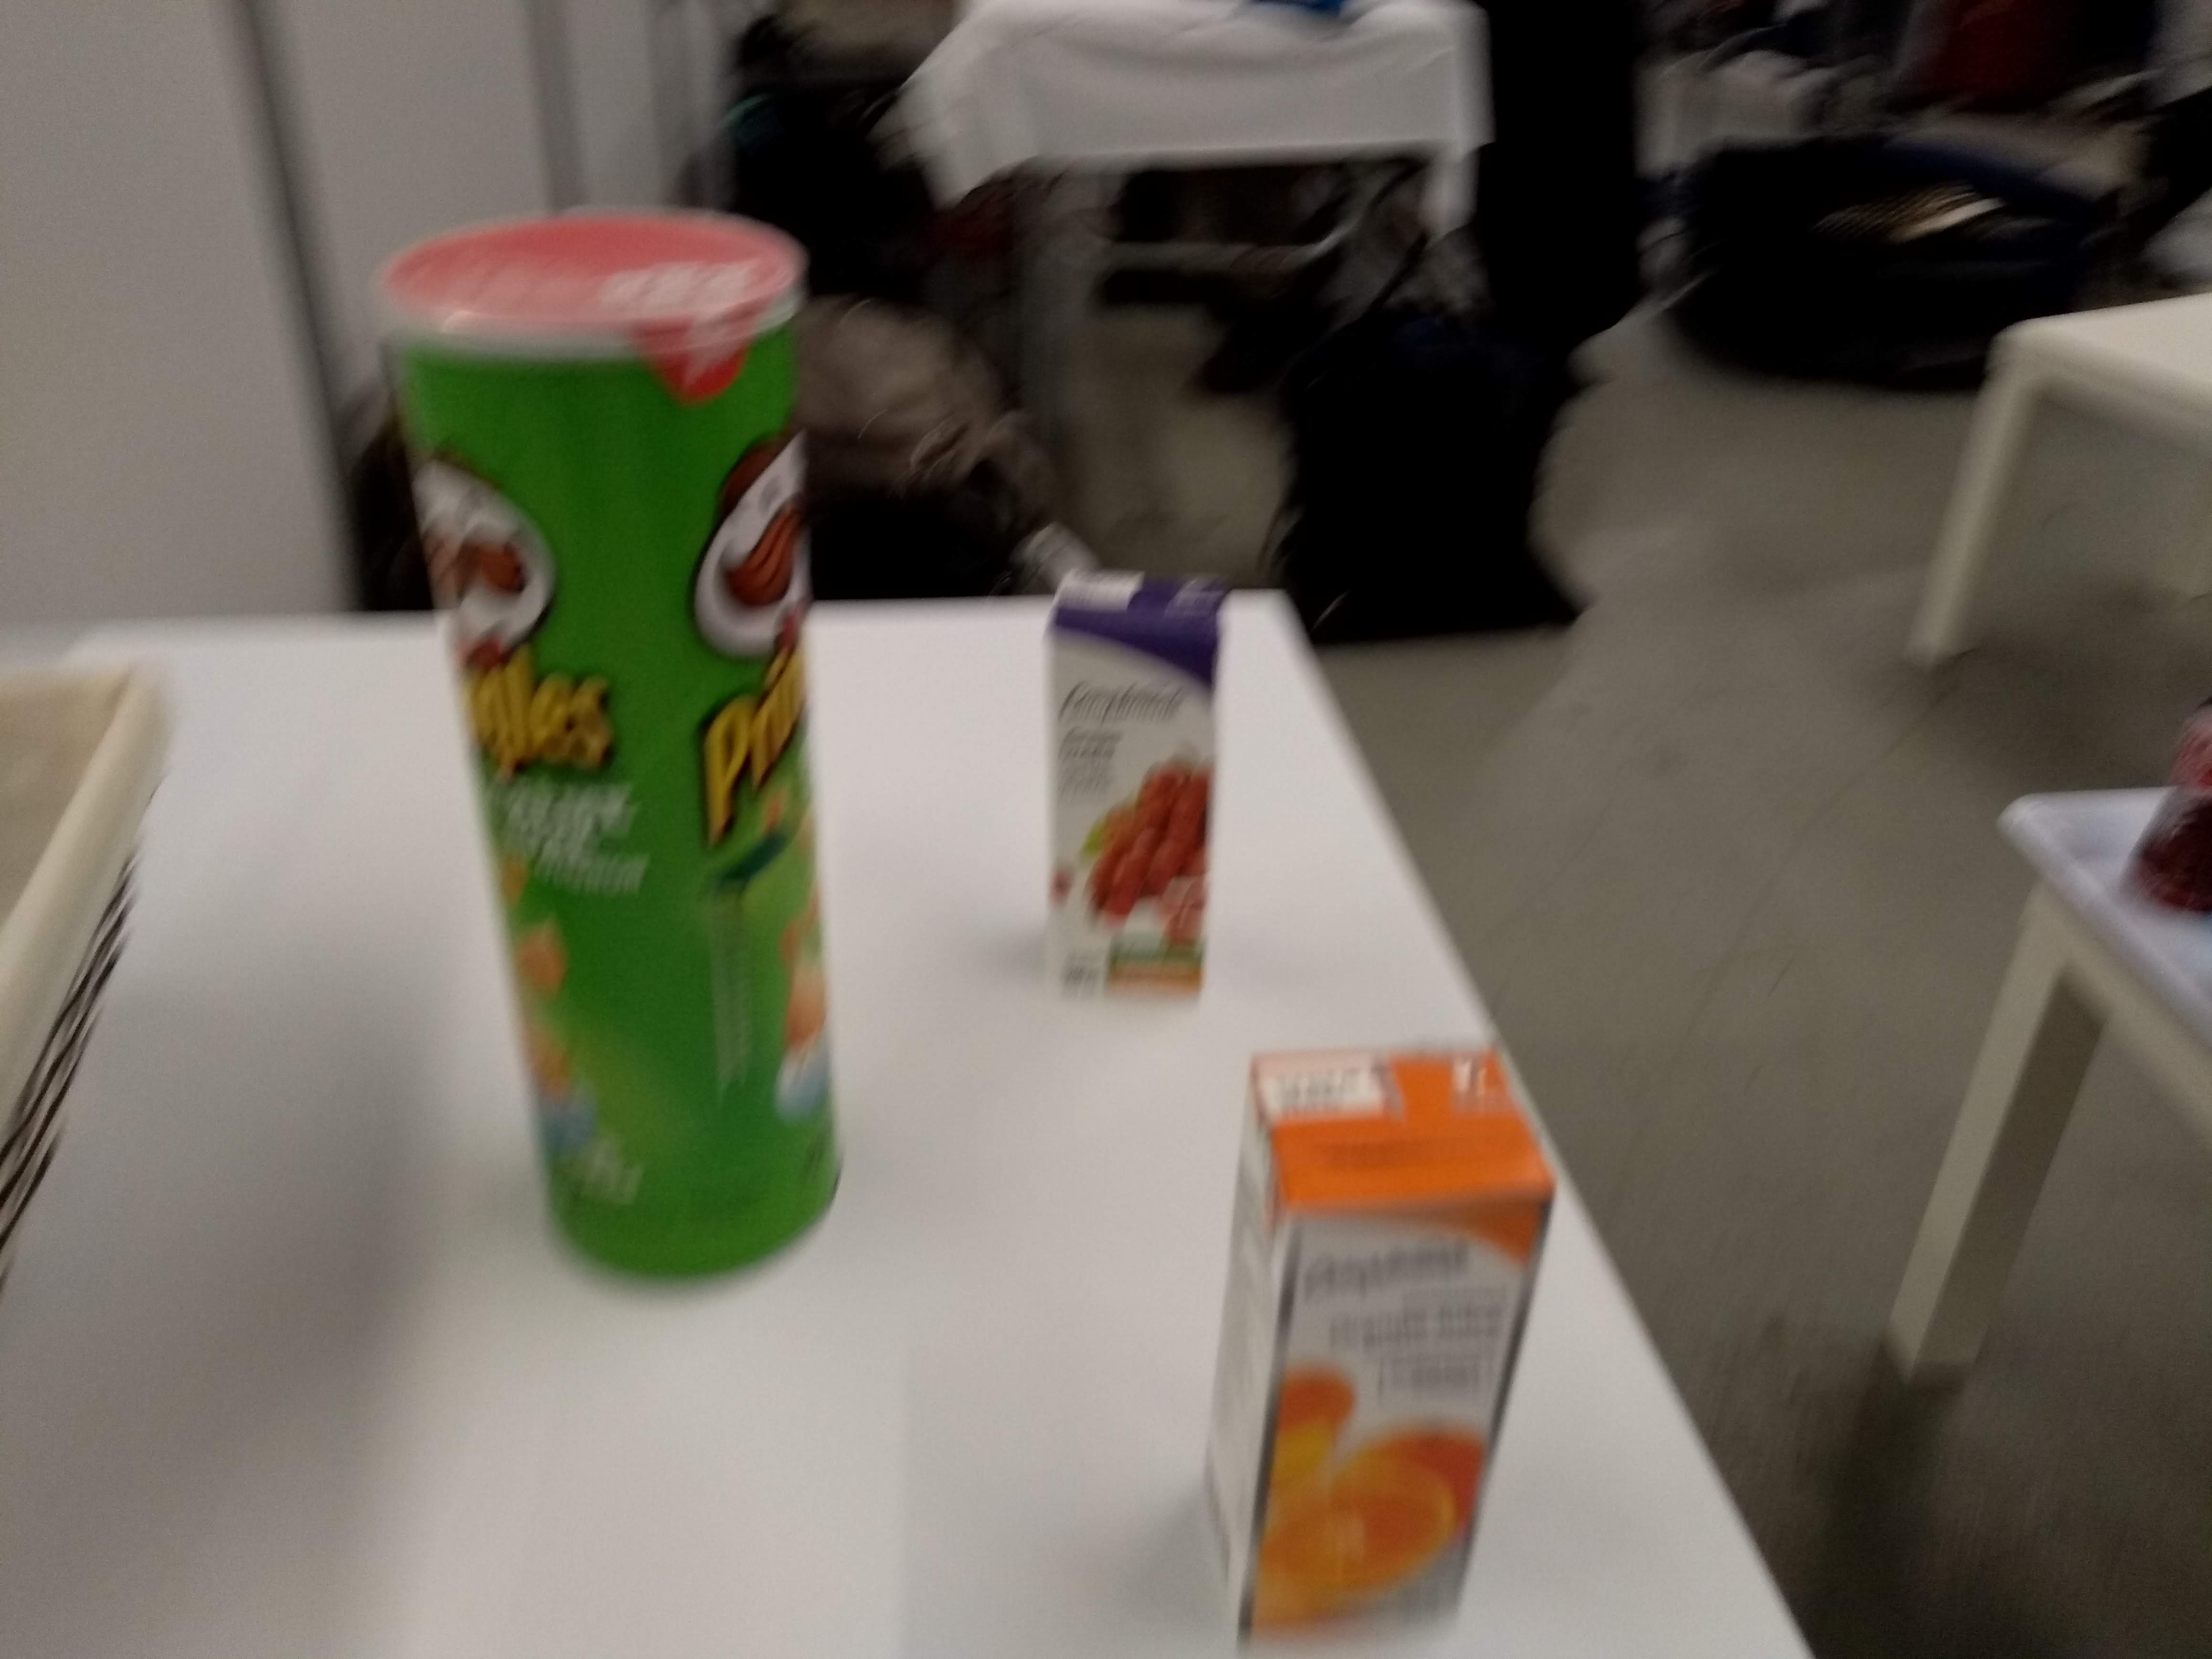grape_juice: (1024, 554, 1240, 997)
orange_juice: (1181, 1019, 1566, 1659)
pringles: (362, 186, 857, 1309)
